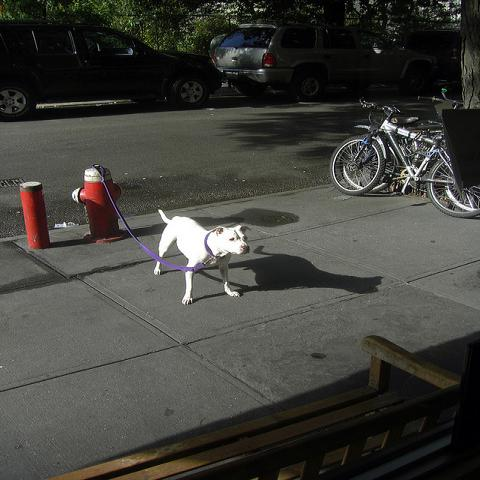car: (0, 20, 224, 119), (214, 22, 439, 106)
